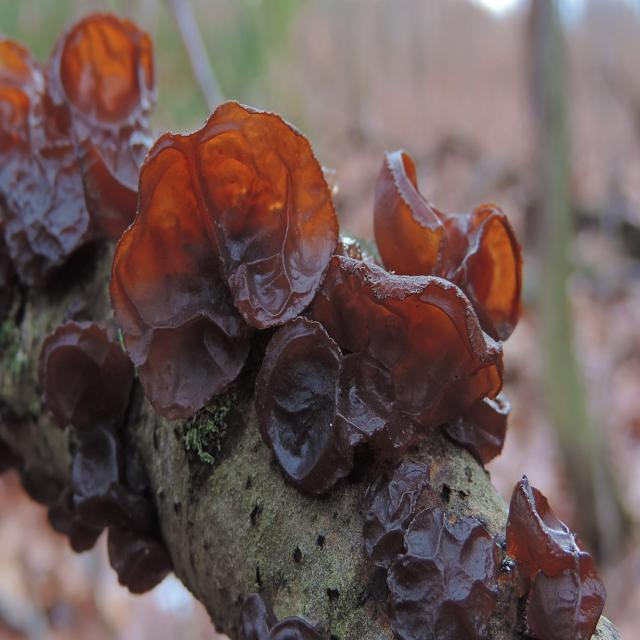Matang: (254, 259, 510, 499), (115, 102, 339, 330), (0, 12, 159, 296), (358, 470, 605, 640), (36, 316, 173, 594), (368, 138, 530, 342)
